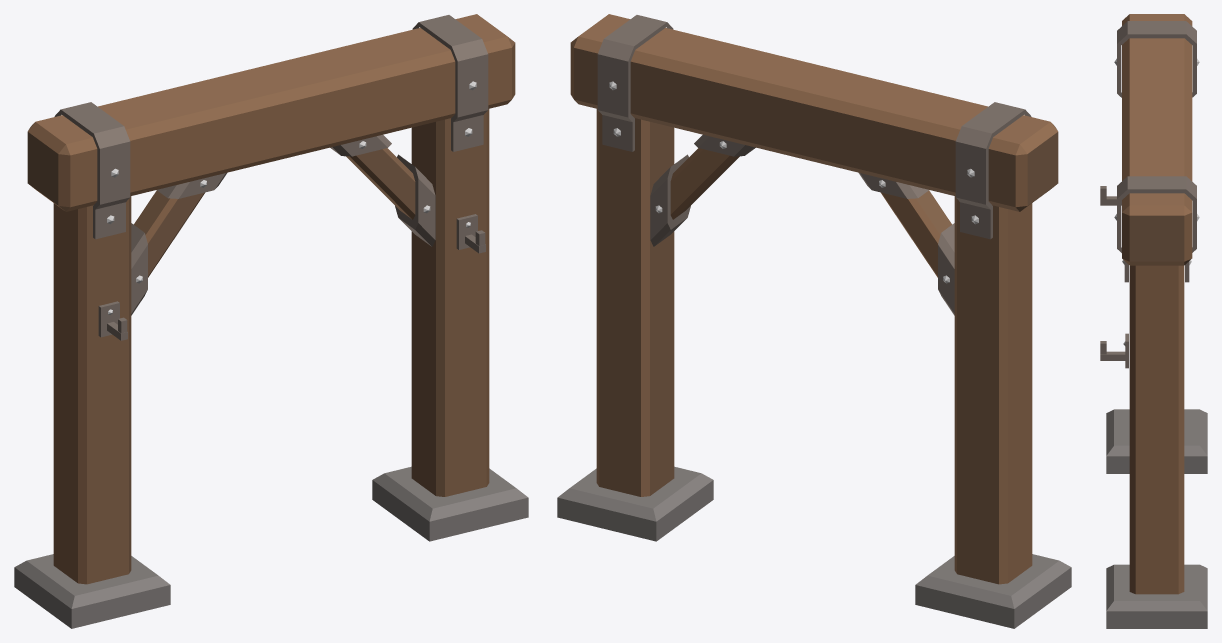
Rendered from timber-shaft-frame-87f96b.glb.
3 views of the same model, side by side, from view 1: azimuth 30°, elevation 25°; view 2: azimuth 150°, elevation 25°; view 3: azimuth 270°, elevation 25° (orthographic). The views are drawn at different scales.
Parts seen in each view (by area): view 1: frame-wood-stone, frame-iron; view 2: frame-wood-stone, frame-iron; view 3: frame-wood-stone, frame-iron.
Part boxes in pixels (box(x1,y1,x2,y2)): frame-wood-stone: box(14, 14, 528, 628); frame-iron: box(54, 15, 488, 340); frame-wood-stone: box(557, 14, 1071, 628); frame-iron: box(597, 15, 1031, 315); frame-wood-stone: box(1106, 14, 1207, 628); frame-iron: box(1100, 21, 1199, 368).
Size of the model in its own units: 2.4 by 2.4 by 0.551.
